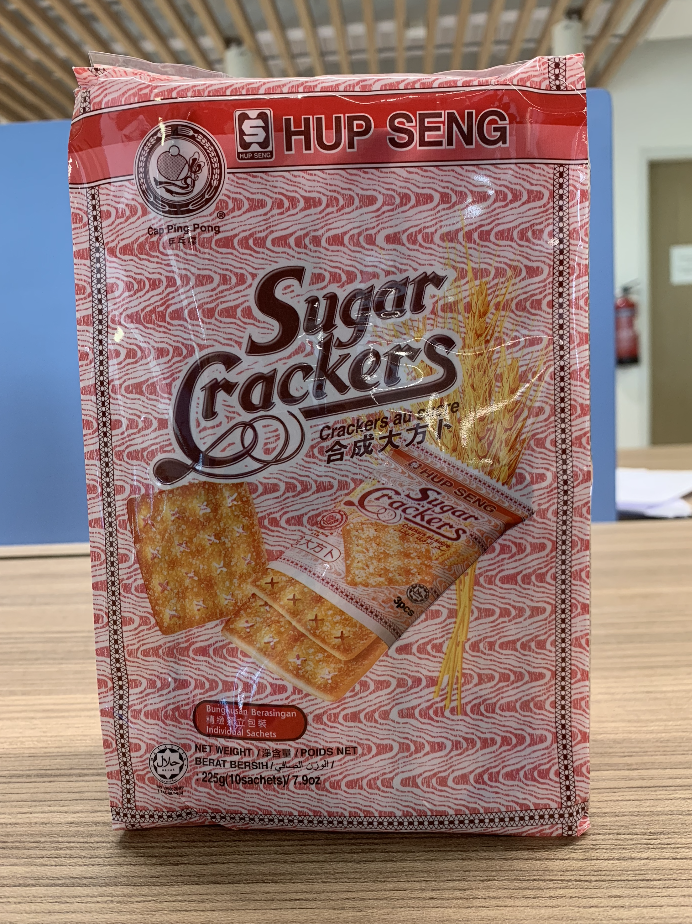crackers_150g: (123, 99, 577, 815)
